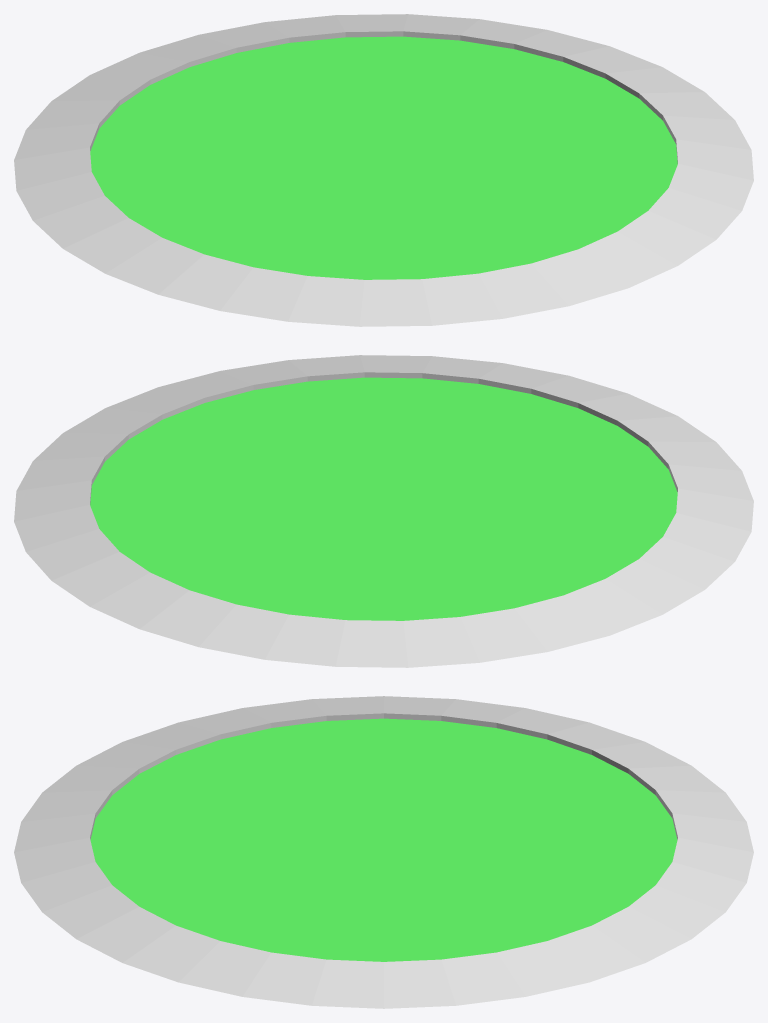
File: healing_station.glb
3 renders of one model, top to bottom at view 1: azimuth 30°, elevation 25°; view 2: azimuth 150°, elevation 25°; view 3: azimuth 270°, elevation 25°, orthographic.
Parts seen in each view (by area): view 1: Cylinder; view 2: Cylinder; view 3: Cylinder.
Part boxes in pixels (x1,y1,x2,y2): Cylinder: (14,14,753,326); Cylinder: (14,355,753,667); Cylinder: (14,696,753,1008).
Size of the model in its own units: 3.5 by 0.0773 by 3.5.
